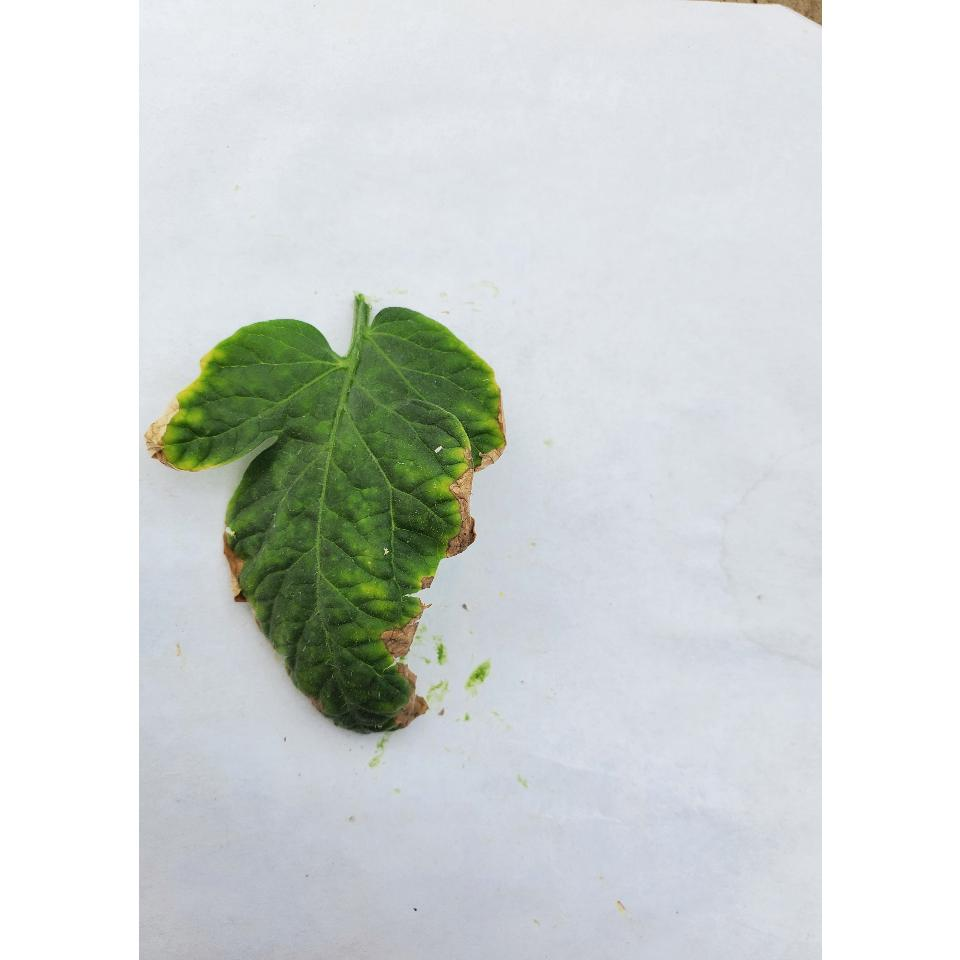tomato_bacterial_blight: (223, 286, 506, 754)
